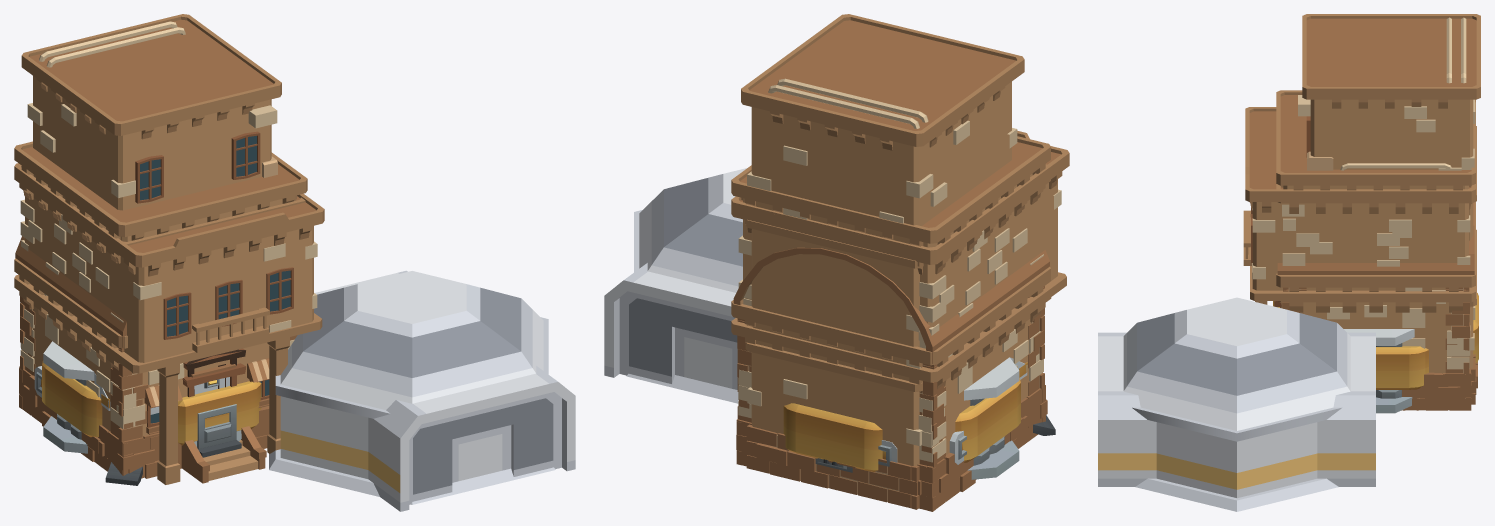
File: kits.glb
3 renders of one model, left to right at view 1: azimuth 30°, elevation 25°; view 2: azimuth 150°, elevation 25°; view 3: azimuth 270°, elevation 25°, orthographic. The views are drawn at different scales.
Parts seen in each view (by area): view 1: UBA_3Story_Small_q, hangar_roundA_q, UBA_2Story_Columns_q, UBA_2Story_Balcony_q, gate_q, hangar_largeA_q, UBA_2Story_q, UBA_1Story_RoundRoof_q, basemodule_A_q, UBA_1Story_q, basemodule_E_q, basemodule_D_q (+1 smaller); view 2: UBA_3Story_Small_q, UBA_2Story_Balcony_q, UBA_2Story_Columns_q, hangar_roundA_q, gate_q, UBA_2Story_q, UBA_1Story_RoundRoof_q, UBA_1Story_q, basemodule_B_q, hangar_largeA_q, basemodule_D_q, basemodule_A_q (+3 smaller); view 3: hangar_roundA_q, UBA_3Story_Small_q, UBA_2Story_Balcony_q, hangar_largeA_q, UBA_2Story_Columns_q, UBA_1Story_RoundRoof_q, UBA_2Story_q, UBA_1Story_q, basemodule_E_q, basemodule_D_q, UBA_2Story_Stairs_q.
Part boxes in pixels (<box>): UBA_3Story_Small_q: <box>21,14,281,210</box>; hangar_roundA_q: <box>269,271,555,504</box>; UBA_2Story_Columns_q: <box>14,163,324,484</box>; UBA_2Story_Balcony_q: <box>14,141,307,478</box>; gate_q: <box>409,392,561,504</box>; hangar_largeA_q: <box>315,270,575,511</box>; UBA_2Story_q: <box>14,178,305,483</box>; UBA_1Story_RoundRoof_q: <box>15,236,297,478</box>; basemodule_A_q: <box>45,368,261,485</box>; UBA_1Story_q: <box>14,258,269,478</box>; basemodule_E_q: <box>42,360,260,457</box>; basemodule_D_q: <box>43,341,260,453</box>; UBA_3Story_Small_q: <box>741,14,1024,509</box>; UBA_2Story_Balcony_q: <box>731,136,1050,508</box>; UBA_2Story_Columns_q: <box>731,130,1069,509</box>; hangar_roundA_q: <box>626,168,746,403</box>; gate_q: <box>619,291,737,389</box>; UBA_2Story_q: <box>731,164,1051,509</box>; UBA_1Story_RoundRoof_q: <box>733,247,1049,511</box>; UBA_1Story_q: <box>731,266,1050,511</box>; basemodule_B_q: <box>783,403,960,471</box>; hangar_largeA_q: <box>604,263,735,377</box>; basemodule_D_q: <box>955,357,1019,479</box>; basemodule_A_q: <box>977,357,1055,455</box>; hangar_roundA_q: <box>1123,297,1350,511</box>; UBA_3Story_Small_q: <box>1298,14,1480,404</box>; UBA_2Story_Balcony_q: <box>1243,90,1475,409</box>; hangar_largeA_q: <box>1098,332,1375,486</box>; UBA_2Story_Columns_q: <box>1245,107,1475,409</box>; UBA_1Story_RoundRoof_q: <box>1277,202,1474,410</box>; UBA_2Story_q: <box>1276,184,1475,409</box>; UBA_1Story_q: <box>1274,202,1475,410</box>; basemodule_E_q: <box>1376,343,1425,398</box>; basemodule_D_q: <box>1344,329,1428,413</box>; UBA_2Story_Stairs_q: <box>1316,203,1431,312</box>.
Bounding box in the file's own units: 4.86 × 3.97 × 4.13.
38 materials, 16 textured.
